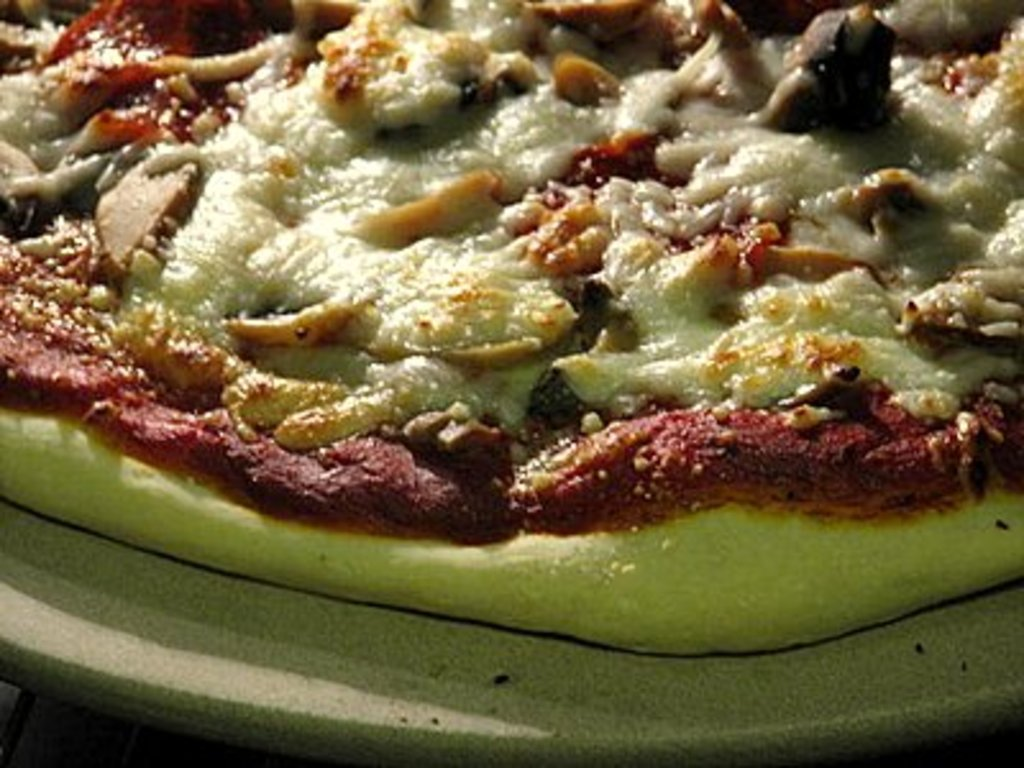Pizza: (0, 5, 1024, 663)
